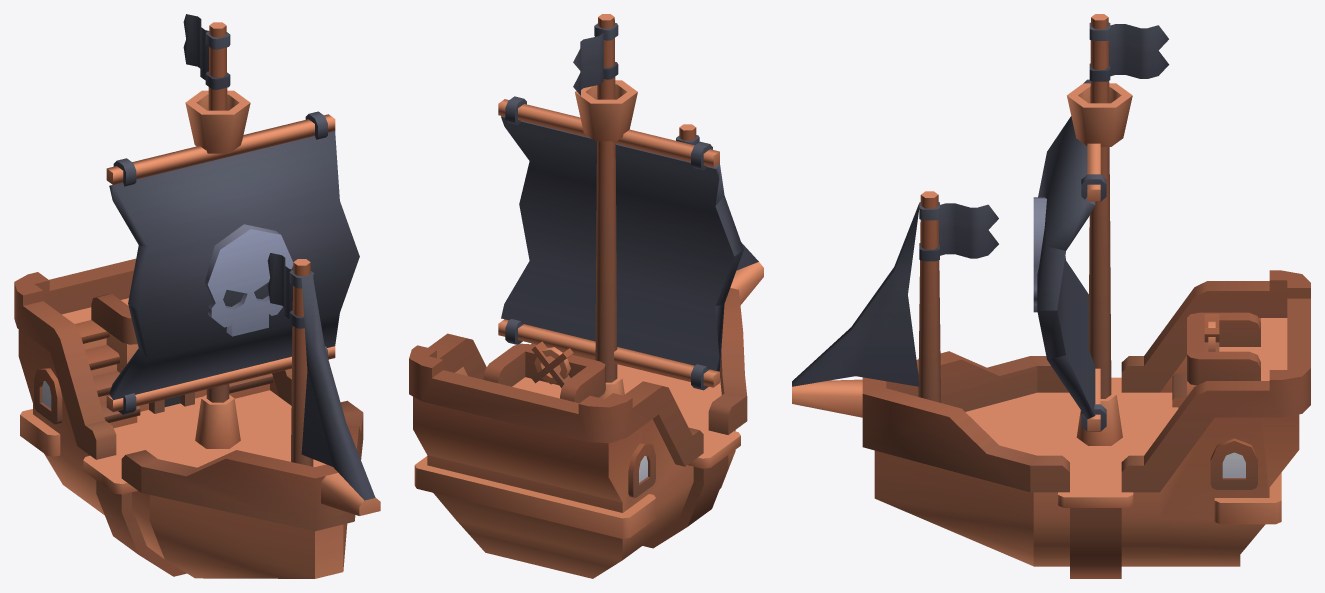
File: ship-pirate-small.glb
The picture shows the model from 3 angles, left to right: view 1: azimuth 30°, elevation 25°; view 2: azimuth 150°, elevation 25°; view 3: azimuth 270°, elevation 25°; orthographic projection. The views are drawn at different scales.
Visible parts, largest first — view 1: ship-pirate-small; view 2: ship-pirate-small; view 3: ship-pirate-small.
Part boxes in pixels (<box>): ship-pirate-small: <box>14,14,380,578</box>; ship-pirate-small: <box>409,14,763,578</box>; ship-pirate-small: <box>792,14,1310,578</box>.
Bounding box in the file's own units: 4.8 × 9.96 × 8.8.
1 material, 1 textured.
